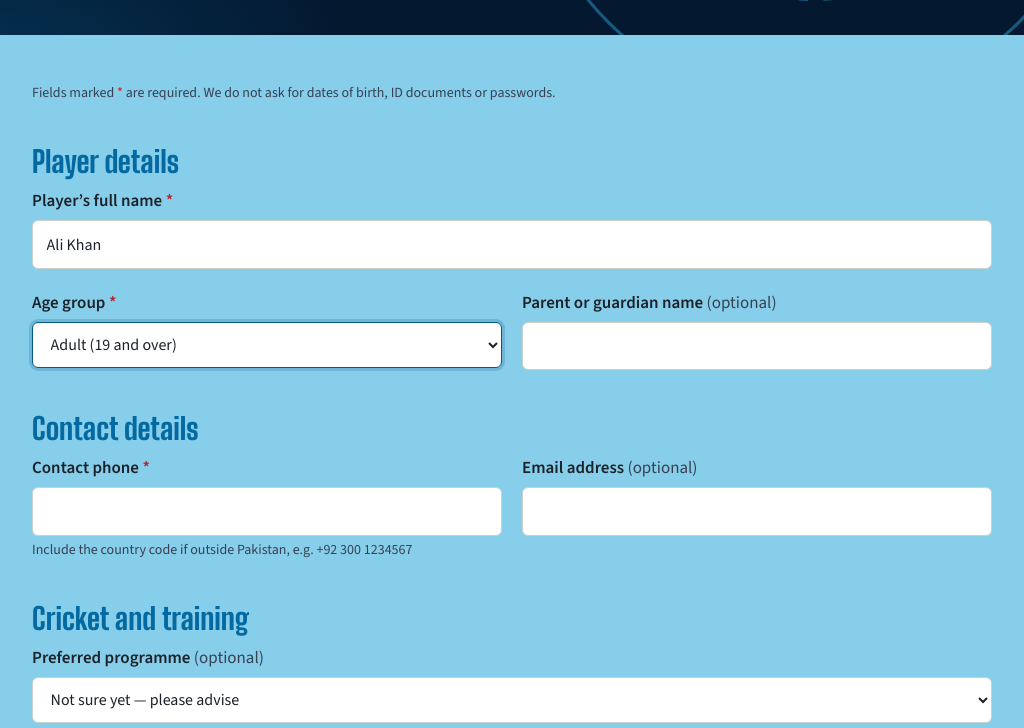
Test: Registration form › requires guardian details for under-19 players
Earlier steps of the test are not shown.
(page scrolled)
In the field labelled "Contact phone *": point(267, 512) [32,487,502,536], type "+92 300 1234567"
(page scrolled)
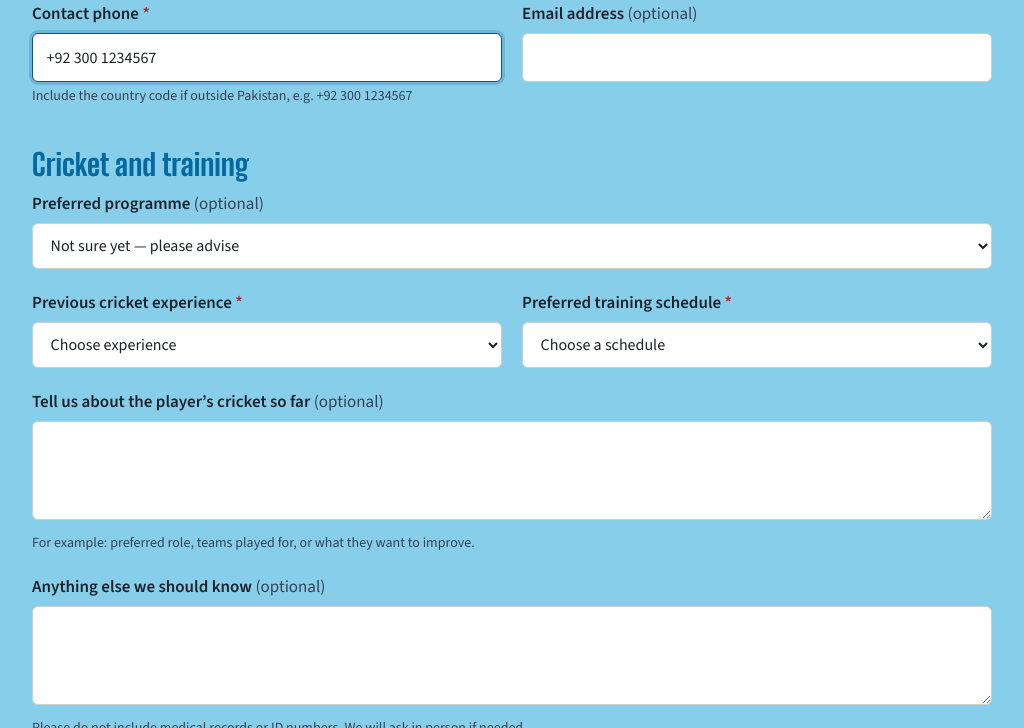
Select "Club cricket" in the dropdown labelled "Previous cricket experience *": point(267, 345) [32,322,502,368]
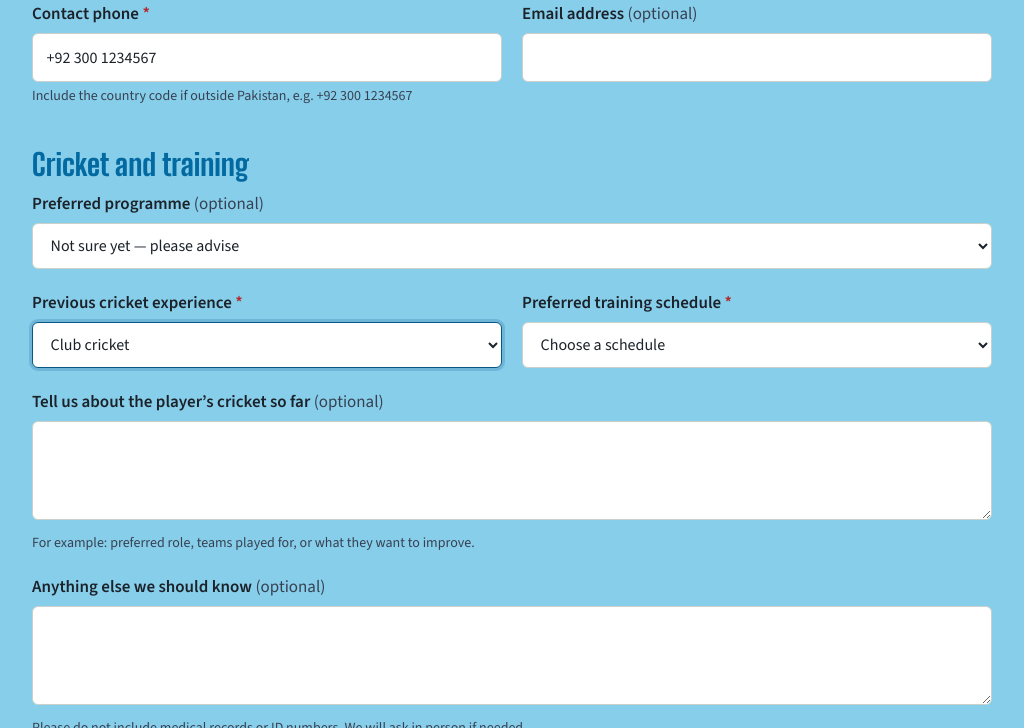
Select "Weekends" in the dropdown labelled "Preferred training schedule *": point(757, 345) [522,322,992,368]
(page scrolled)
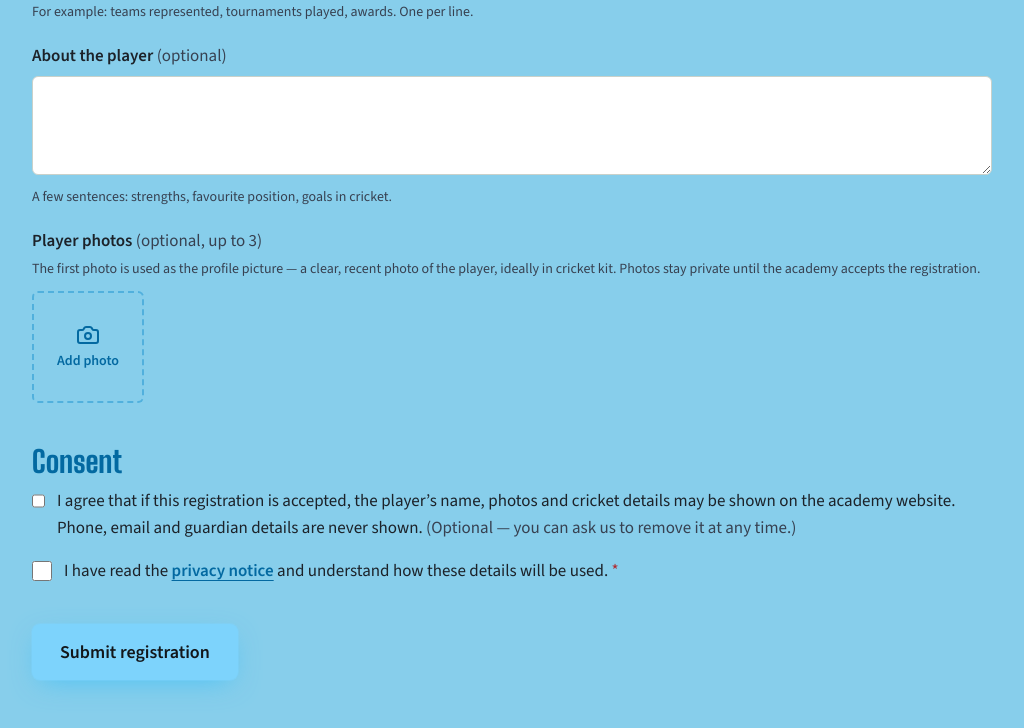
Click the checkbox labelled "privacy notice": point(42, 571) [32,561,52,581]
(page scrolled)
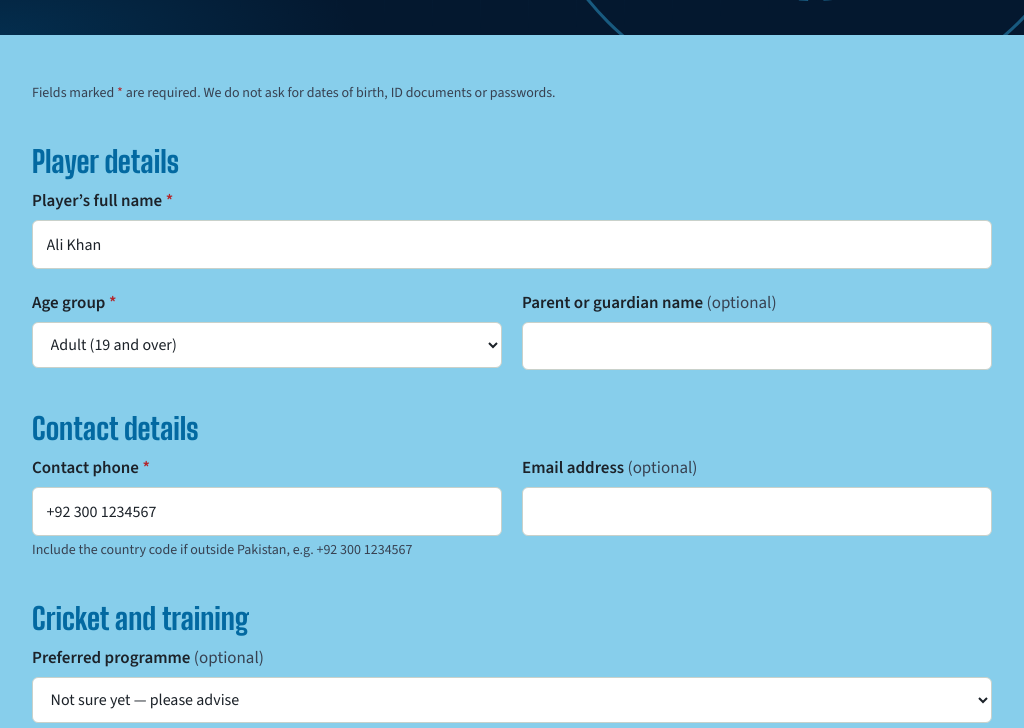
Select "Under 14" in the dropdown labelled "Age group *": point(267, 345) [32,322,502,368]
(page scrolled)
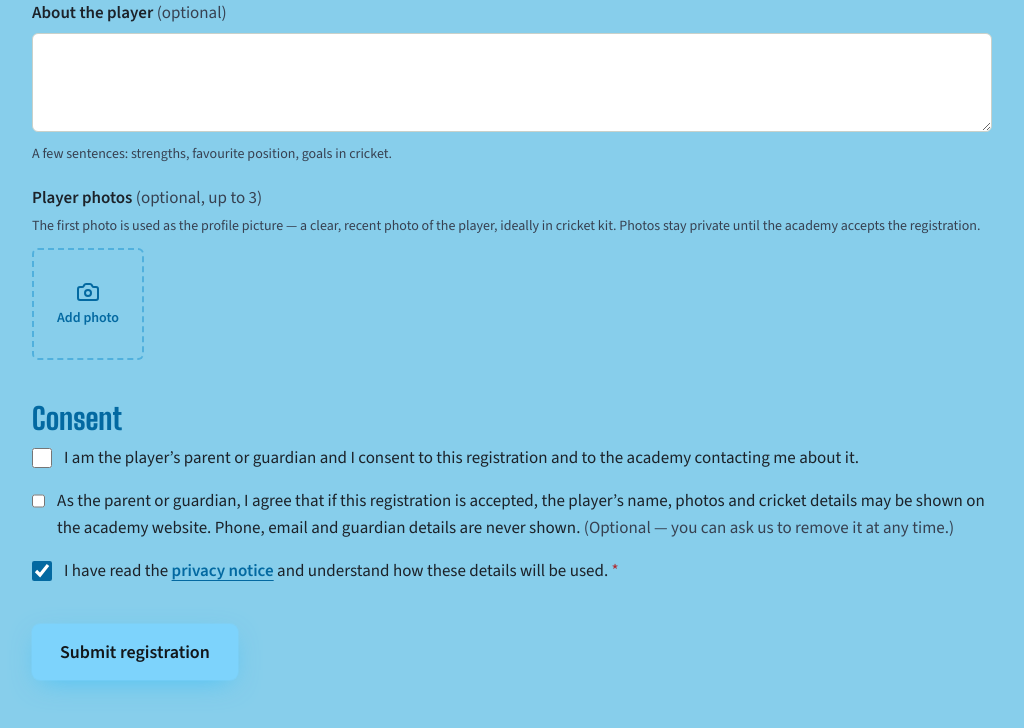
Click the button "Submit registration": point(135, 652) [32,624,238,680]
(page scrolled)
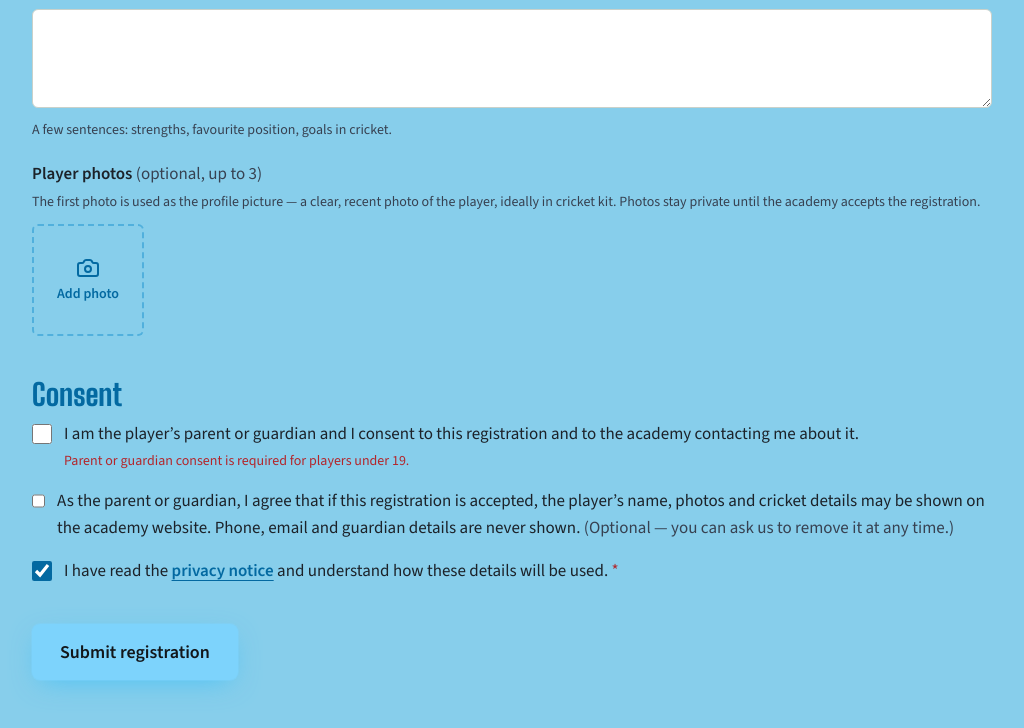
Now the text "Parent or guardian consent is required for players under 19." is shown, box [64,451,409,470]
